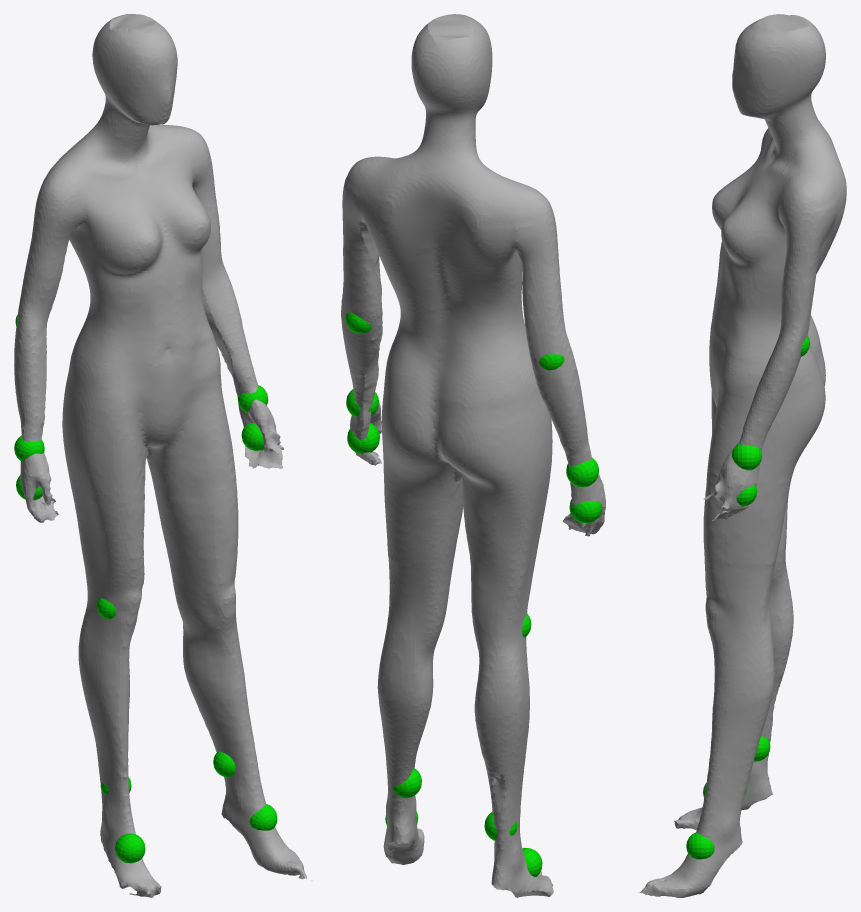
Rendered from joints_on_input.glb.
3 renders of one model, left to right at view 1: azimuth 30°, elevation 25°; view 2: azimuth 150°, elevation 25°; view 3: azimuth 270°, elevation 25°, orthographic. The views are drawn at different scales.
Bounding box in the file's own units: 0.5542 × 1.79 × 0.4175.
